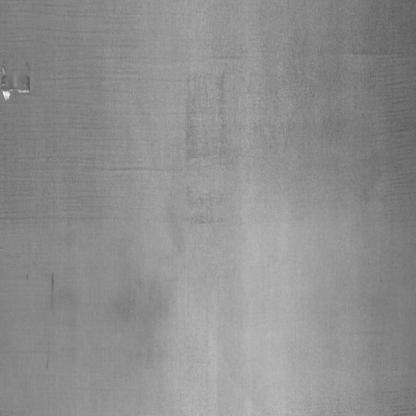rolled_pit: (0, 54, 49, 99)
